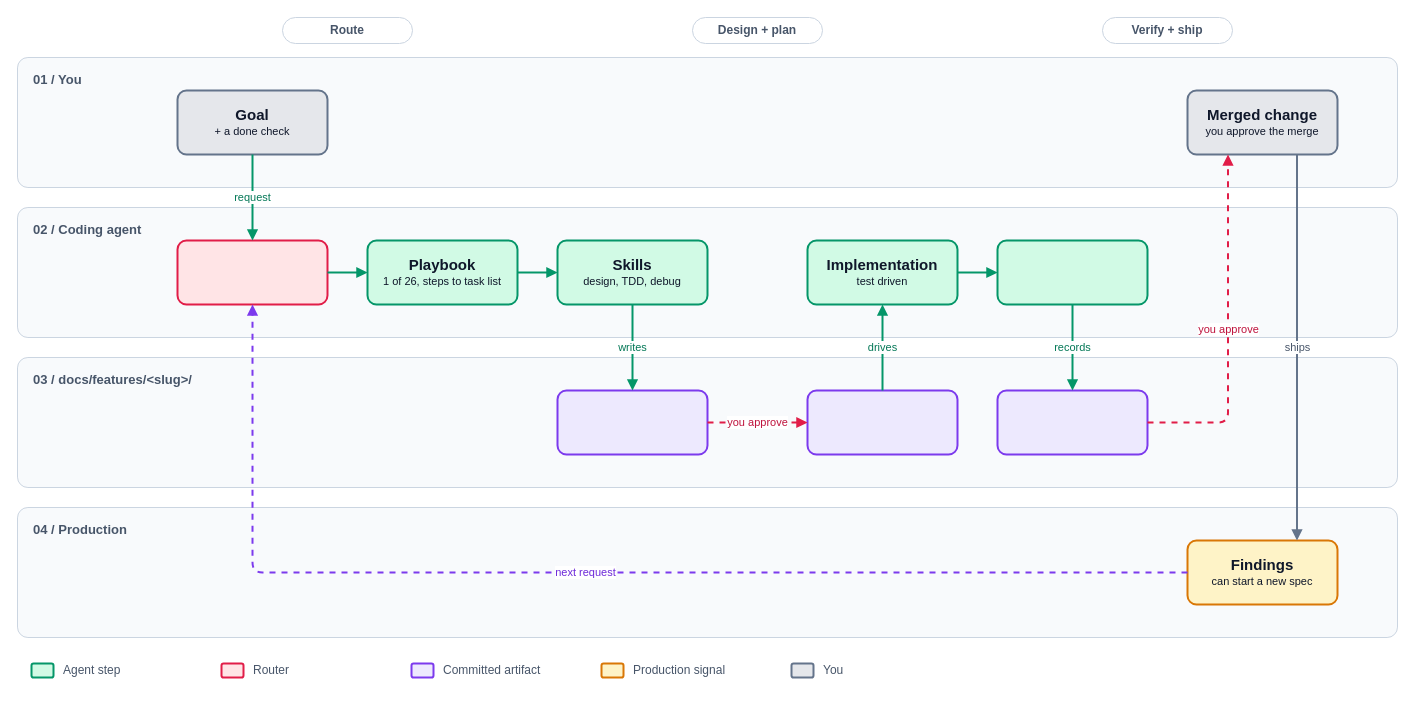
Image size: 1415x703. Some labels were removed from this diagram. The box of each missing label's shape, as (x1, y1, x2, y2) in pixels:
plan.md ordered tasks: (806, 389, 958, 455)
review.md findings + verdict: (996, 389, 1148, 455)
spec.md approved design: (556, 389, 708, 455)
Verify + review tests, code review: (996, 239, 1148, 305)
zed-mode skill check first: (176, 239, 328, 305)
